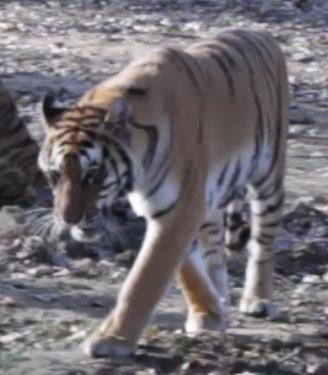tiger: (38, 28, 288, 358)
